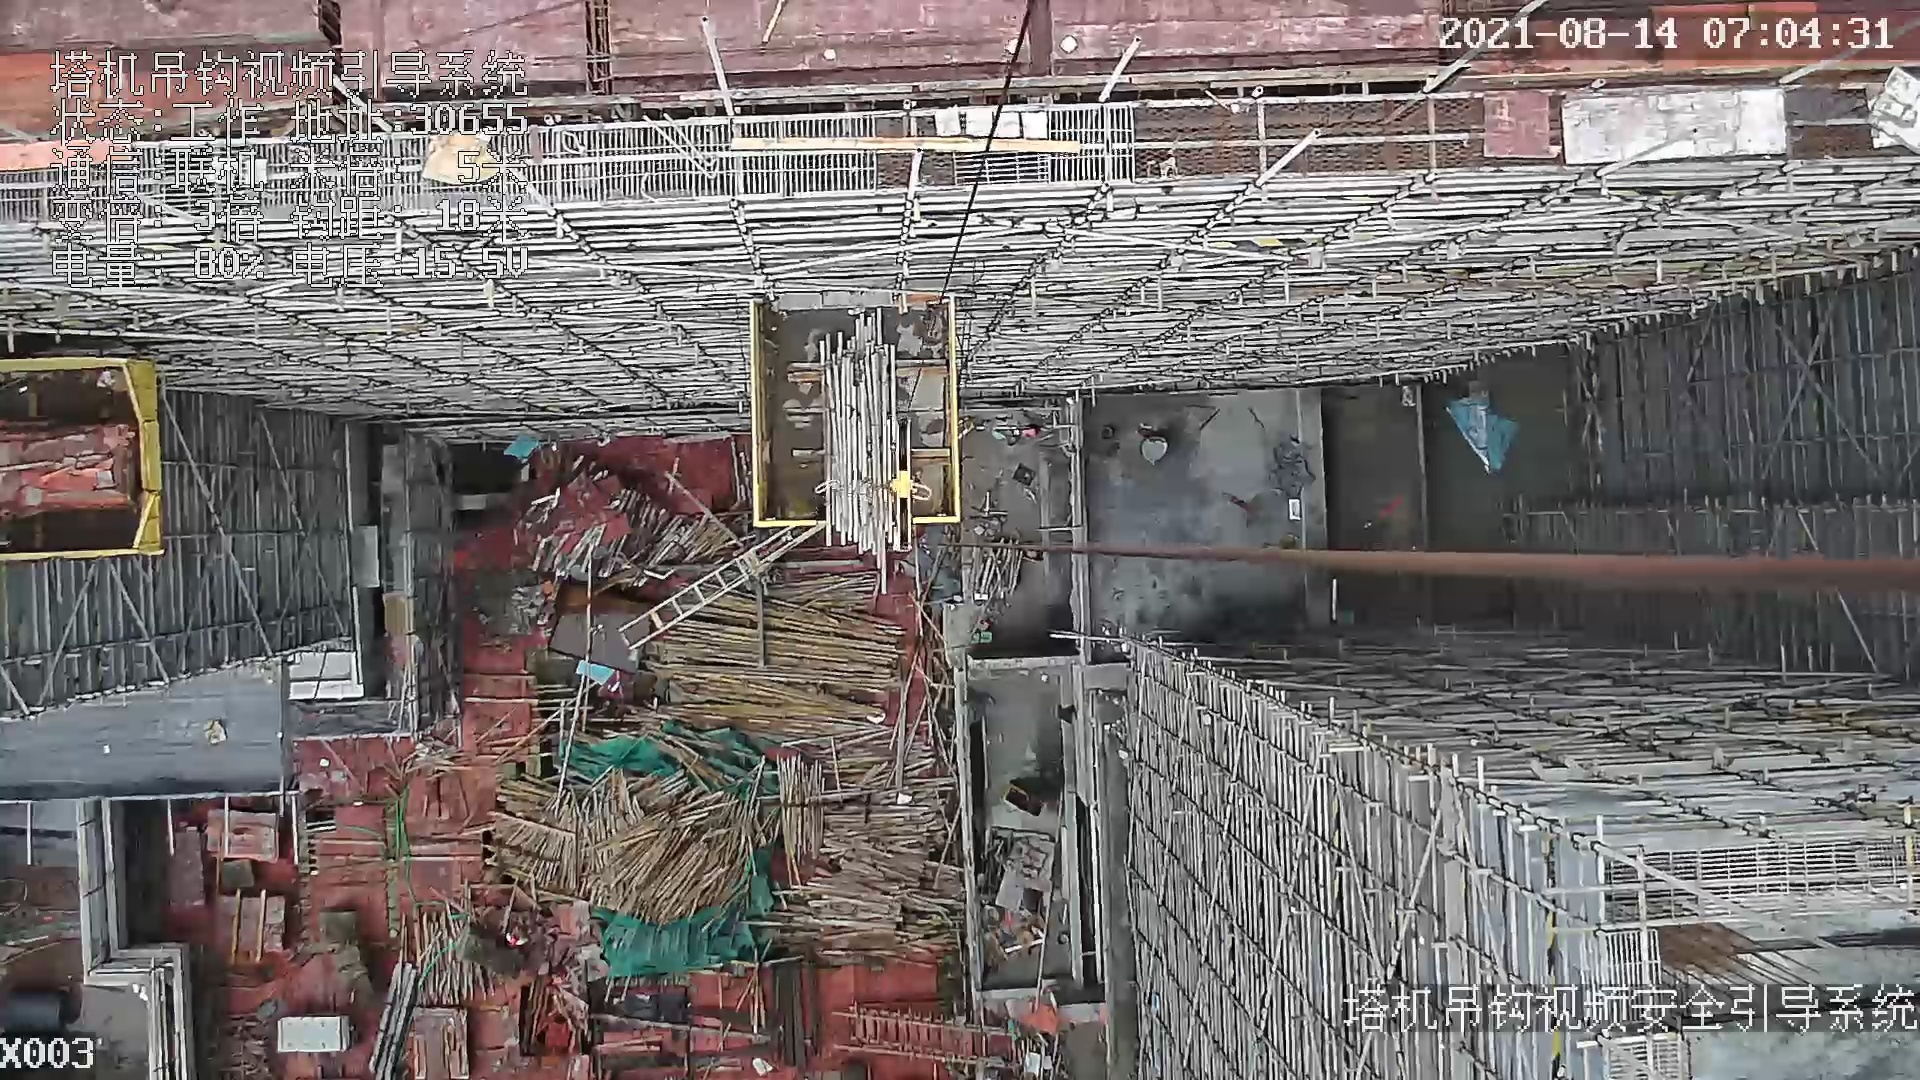hook: (891, 409, 923, 555)
